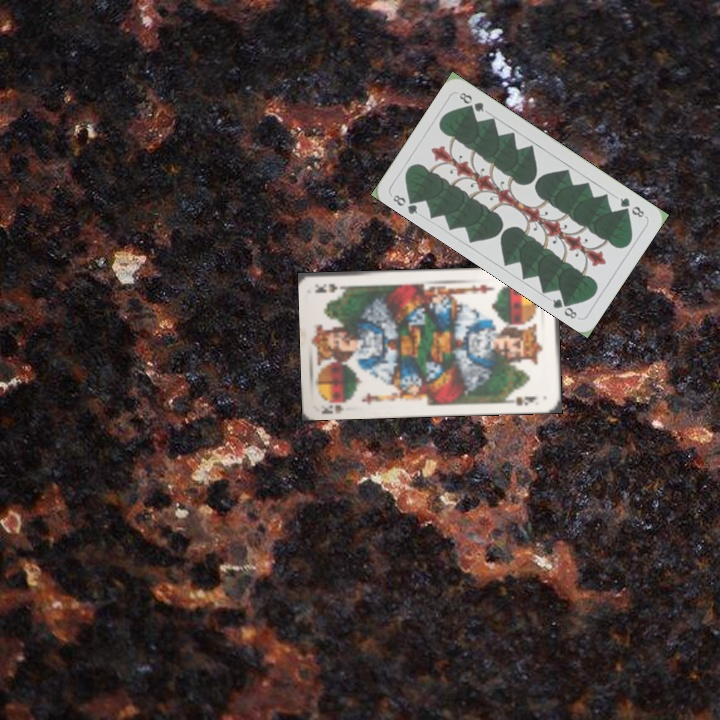G8: (389, 190, 421, 217), (616, 194, 647, 220)
SK: (318, 401, 346, 415)
